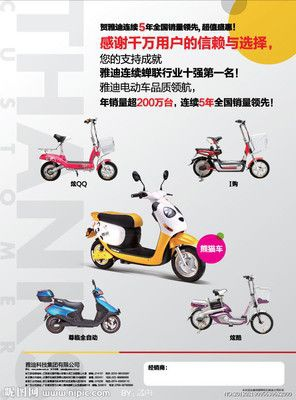non-vehicle: (85, 172, 205, 282), (33, 112, 120, 188), (187, 116, 272, 188), (189, 271, 276, 337), (34, 280, 124, 336)
